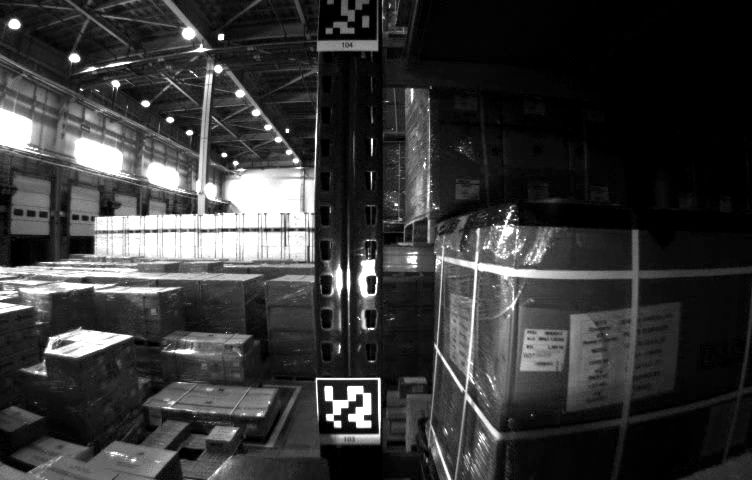True Barcode: (521, 329, 561, 376)
